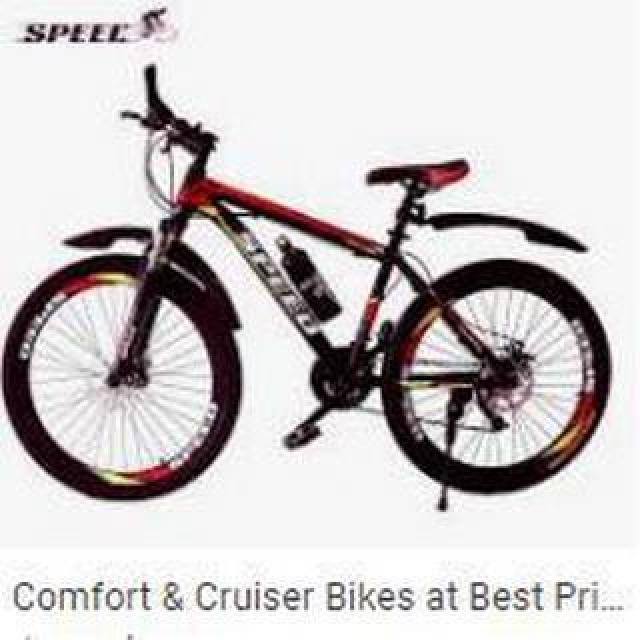Person: (3, 61, 615, 515)
